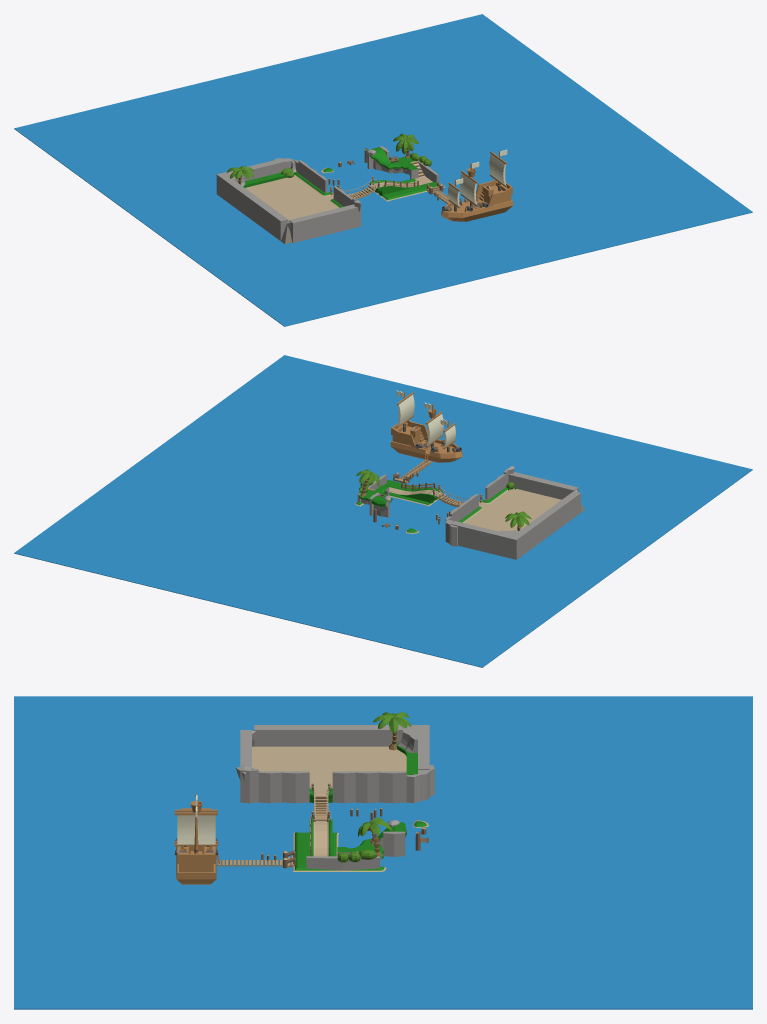
File: PirateShipScene.glb
The picture shows the model from 3 angles, top to bottom: view 1: azimuth 30°, elevation 25°; view 2: azimuth 150°, elevation 25°; view 3: azimuth 270°, elevation 25°; orthographic projection. The views are drawn at different scales.
Parts seen in each view (by area): view 1: mergedBlocks(Clone); view 2: mergedBlocks(Clone); view 3: mergedBlocks(Clone).
Boxes of the visible parts, <box> form: mergedBlocks(Clone): <box>14,14,752,326</box>; mergedBlocks(Clone): <box>14,355,752,667</box>; mergedBlocks(Clone): <box>14,696,752,1009</box>.
Size of the model in its own units: 64 by 8.11 by 64.
